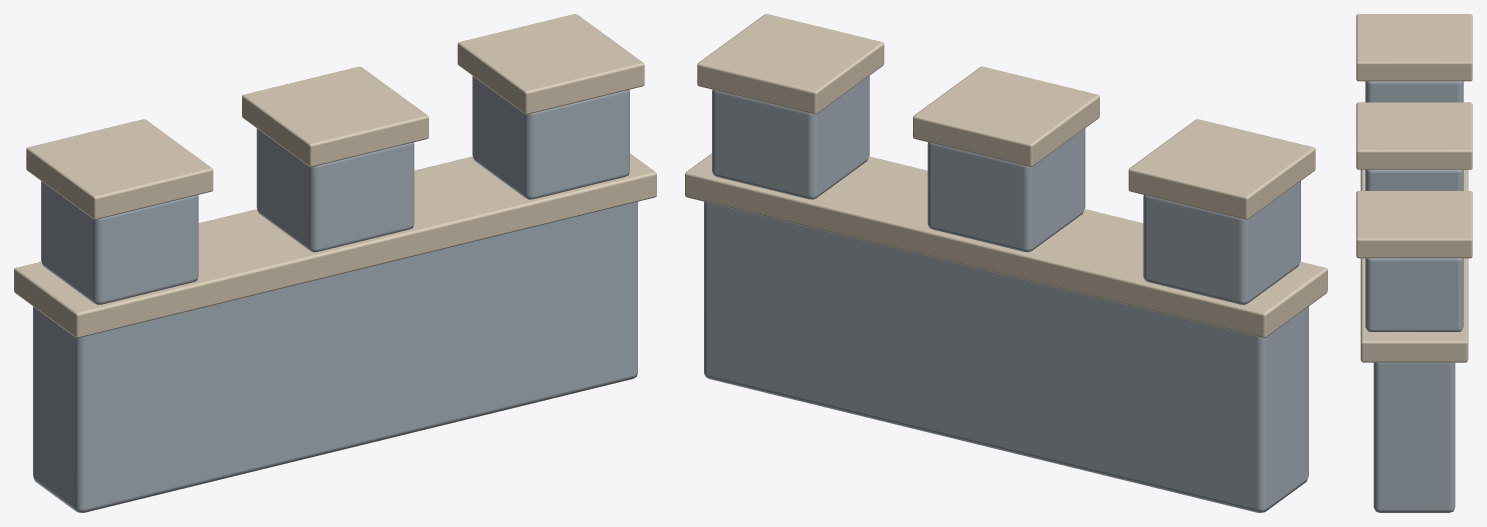
File: parapet.glb
3 renders of one model, left to right at view 1: azimuth 30°, elevation 25°; view 2: azimuth 150°, elevation 25°; view 3: azimuth 270°, elevation 25°, orthographic. The views are drawn at different scales.
Visible parts, largest first — view 1: parapet; view 2: parapet; view 3: parapet.
Part boxes in pixels (left/top/right/bottom): parapet: left=14, top=14, right=656, bottom=512; parapet: left=685, top=14, right=1327, bottom=512; parapet: left=1356, top=14, right=1472, bottom=512.
Bounding box in the file's own units: 3.1 × 1.66 × 0.64.
